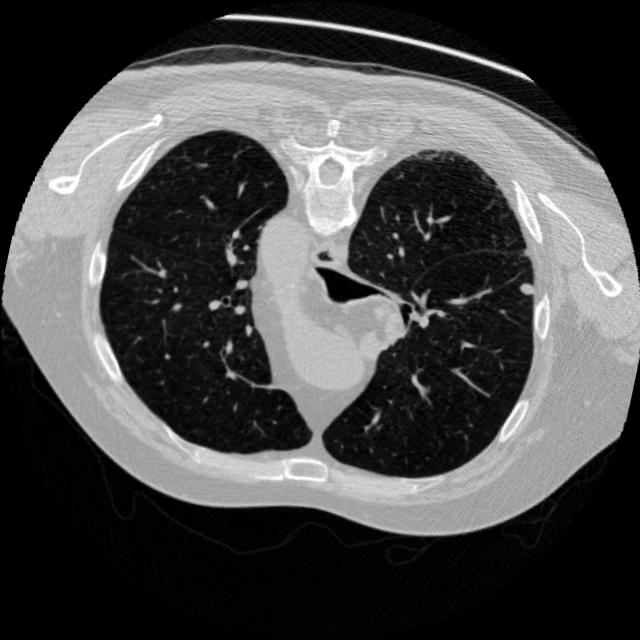nodule: (509, 270, 545, 306)
